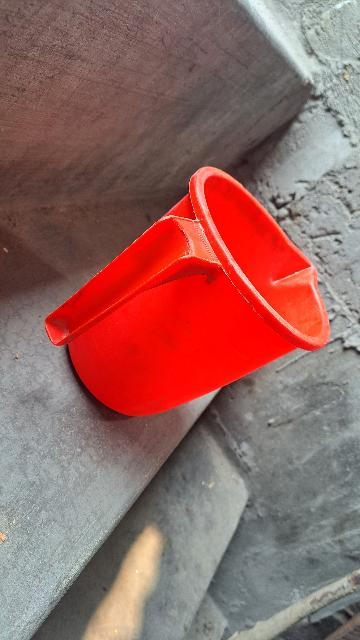hardplastic: (12, 145, 339, 470)
